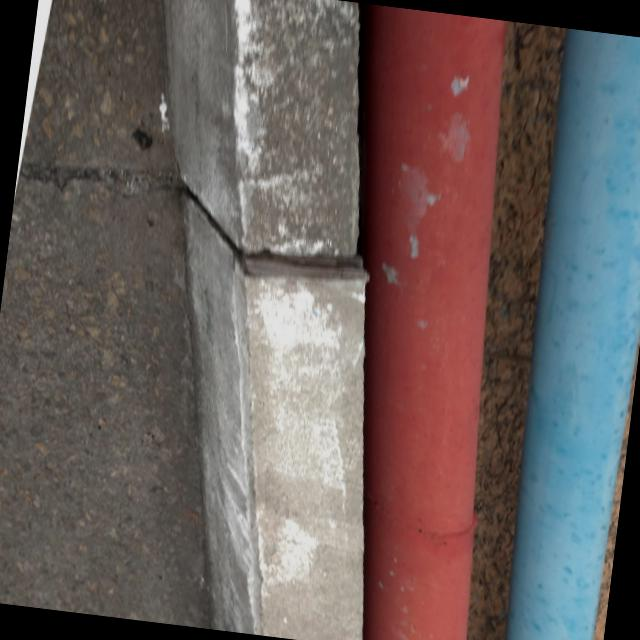gas: (298, 4, 555, 640), (488, 27, 640, 640)
